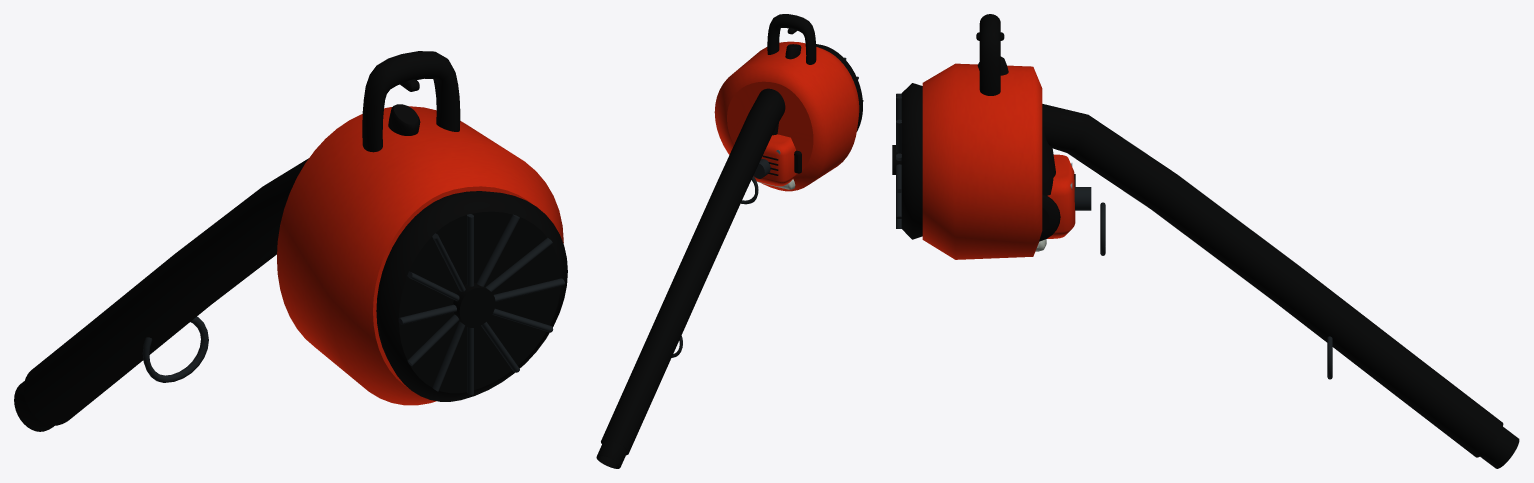
File: LeafBlower.gltf
The picture shows the model from 3 angles, left to right: view 1: azimuth 30°, elevation 25°; view 2: azimuth 150°, elevation 25°; view 3: azimuth 270°, elevation 25°; orthographic projection. The views are drawn at different scales.
Visible parts, largest first — view 1: LeafBlower__Body; view 2: LeafBlower__Body; view 3: LeafBlower__Body.
Part boxes in pixels (x1,y1,x2,y2): LeafBlower__Body: (14,51,567,431); LeafBlower__Body: (596,14,863,468); LeafBlower__Body: (892,14,1519,468).
Bounding box in the file's own units: 0.3411 × 0.891 × 1.13.
Materials: 1 (1 with a texture image).
